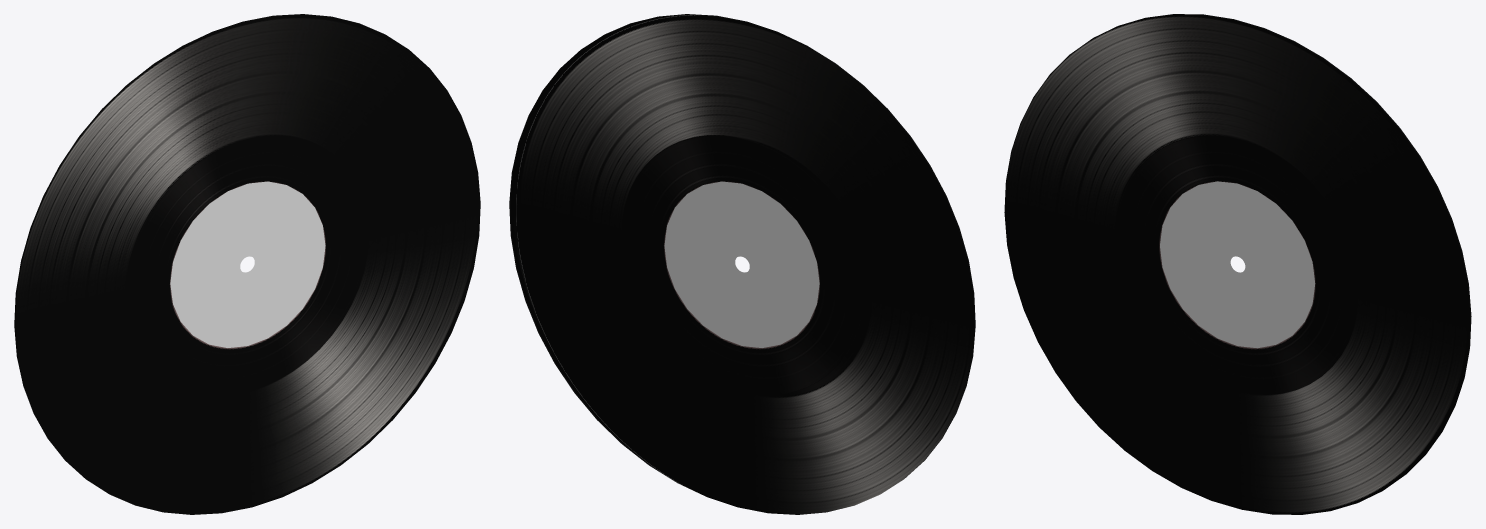
File: white label vinyl.obj
3 views of the same model, side by side, from view 1: azimuth 30°, elevation 25°; view 2: azimuth 150°, elevation 25°; view 3: azimuth 330°, elevation 25° (orthographic).
Visible parts, largest first — view 1: Mesh1 Model; view 2: Mesh1 Model; view 3: Mesh1 Model.
Part boxes in pixels (bbox=[...]): Mesh1 Model: bbox=[14, 14, 480, 514]; Mesh1 Model: bbox=[509, 14, 975, 514]; Mesh1 Model: bbox=[1004, 14, 1471, 514].
Size of the model in its own units: 0.3 by 0.3 by 0.001.
Materials: 3 (1 with a texture image).
